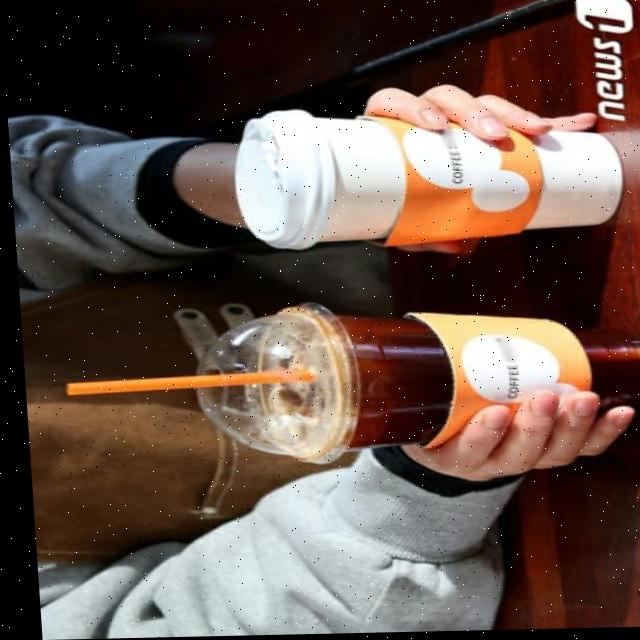cup: (172, 303, 640, 471)
